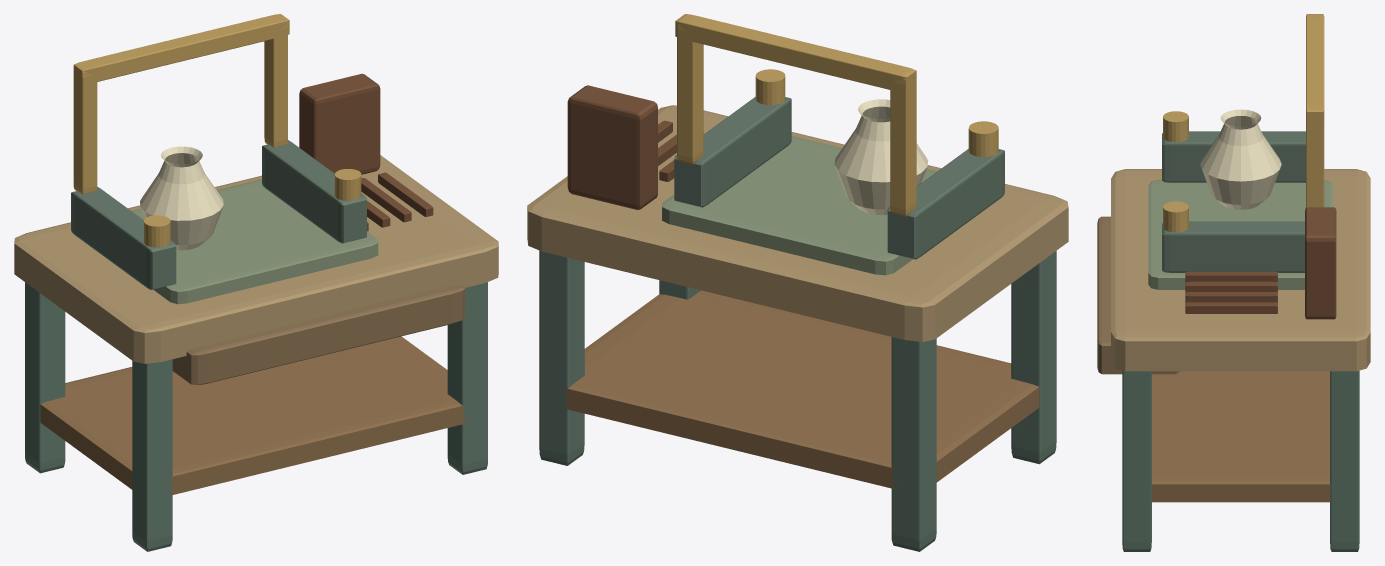
The model's file is carve.glb.
3 views of the same model, side by side, from view 1: azimuth 30°, elevation 25°; view 2: azimuth 150°, elevation 25°; view 3: azimuth 270°, elevation 25° (orthographic). The views are drawn at different scales.
Parts seen in each view (by area): view 1: carve-table-shelf-005, carve-table-top-000, carve-carve-mat-006, carve-carve-drawer-020, carve-table-leg-002, carve-carve-toolbox-016, carve-table-leg-004, carve-table-leg-001, carve-carve-holder-012, carve-carve-holder-014, carve-carve-vase-007, carve-carve-top-rail-019 (+6 smaller); view 2: carve-table-shelf-005, carve-table-top-000, carve-carve-mat-006, carve-carve-toolbox-016, carve-table-leg-001, carve-table-leg-003, carve-table-leg-002, carve-carve-holder-012, carve-carve-holder-014, carve-carve-top-rail-019, carve-carve-vase-007, carve-carve-frame-017 (+3 smaller); view 3: carve-table-top-000, carve-table-shelf-005, carve-carve-holder-014, carve-carve-mat-006, carve-carve-vase-007, carve-table-leg-003, carve-table-leg-004, carve-carve-holder-012, carve-carve-toolbox-016, carve-carve-drawer-020, carve-carve-top-rail-019, carve-carve-frame-018 (+6 smaller).
Boxes of the visible parts, <box> form: carve-table-shelf-005: <box>40,336,468,495</box>; carve-table-top-000: <box>14,155,498,363</box>; carve-carve-mat-006: <box>131,179,378,304</box>; carve-carve-drawer-020: <box>172,284,465,384</box>; carve-table-leg-002: <box>132,359,172,551</box>; carve-carve-toolbox-016: <box>299,73,380,174</box>; carve-table-leg-004: <box>447,282,487,474</box>; carve-table-leg-001: <box>25,282,65,473</box>; carve-carve-holder-012: <box>71,187,176,289</box>; carve-carve-holder-014: <box>262,140,366,243</box>; carve-carve-vase-007: <box>140,146,223,250</box>; carve-carve-top-rail-019: <box>73,14,289,83</box>; carve-table-shelf-005: <box>566,290,1039,489</box>; carve-table-top-000: <box>527,105,1068,341</box>; carve-carve-mat-006: <box>662,136,937,275</box>; carve-carve-toolbox-016: <box>567,85,657,209</box>; carve-table-leg-001: <box>891,337,936,551</box>; carve-table-leg-003: <box>539,250,584,465</box>; carve-table-leg-002: <box>1011,251,1056,464</box>; carve-carve-holder-012: <box>887,149,1004,259</box>; carve-carve-holder-014: <box>674,97,791,207</box>; carve-carve-top-rail-019: <box>675,14,916,90</box>; carve-carve-vase-007: <box>834,99,928,214</box>; carve-carve-frame-017: <box>890,78,916,216</box>; carve-table-top-000: <box>1111,169,1370,371</box>; carve-table-shelf-005: <box>1151,371,1330,502</box>; carve-carve-holder-014: <box>1162,221,1304,272</box>; carve-carve-mat-006: <box>1148,180,1333,289</box>; carve-carve-vase-007: <box>1200,109,1281,209</box>; carve-table-leg-003: <box>1330,370,1359,551</box>; carve-table-leg-004: <box>1122,370,1151,551</box>; carve-carve-holder-012: <box>1162,131,1305,182</box>; carve-carve-toolbox-016: <box>1305,207,1336,319</box>; carve-carve-drawer-020: <box>1097,216,1179,374</box>; carve-carve-top-rail-019: <box>1306,14,1324,125</box>; carve-carve-frame-018: <box>1306,112,1324,207</box>.
Size of the model in its own units: 2.2 by 2.34 by 1.47.
